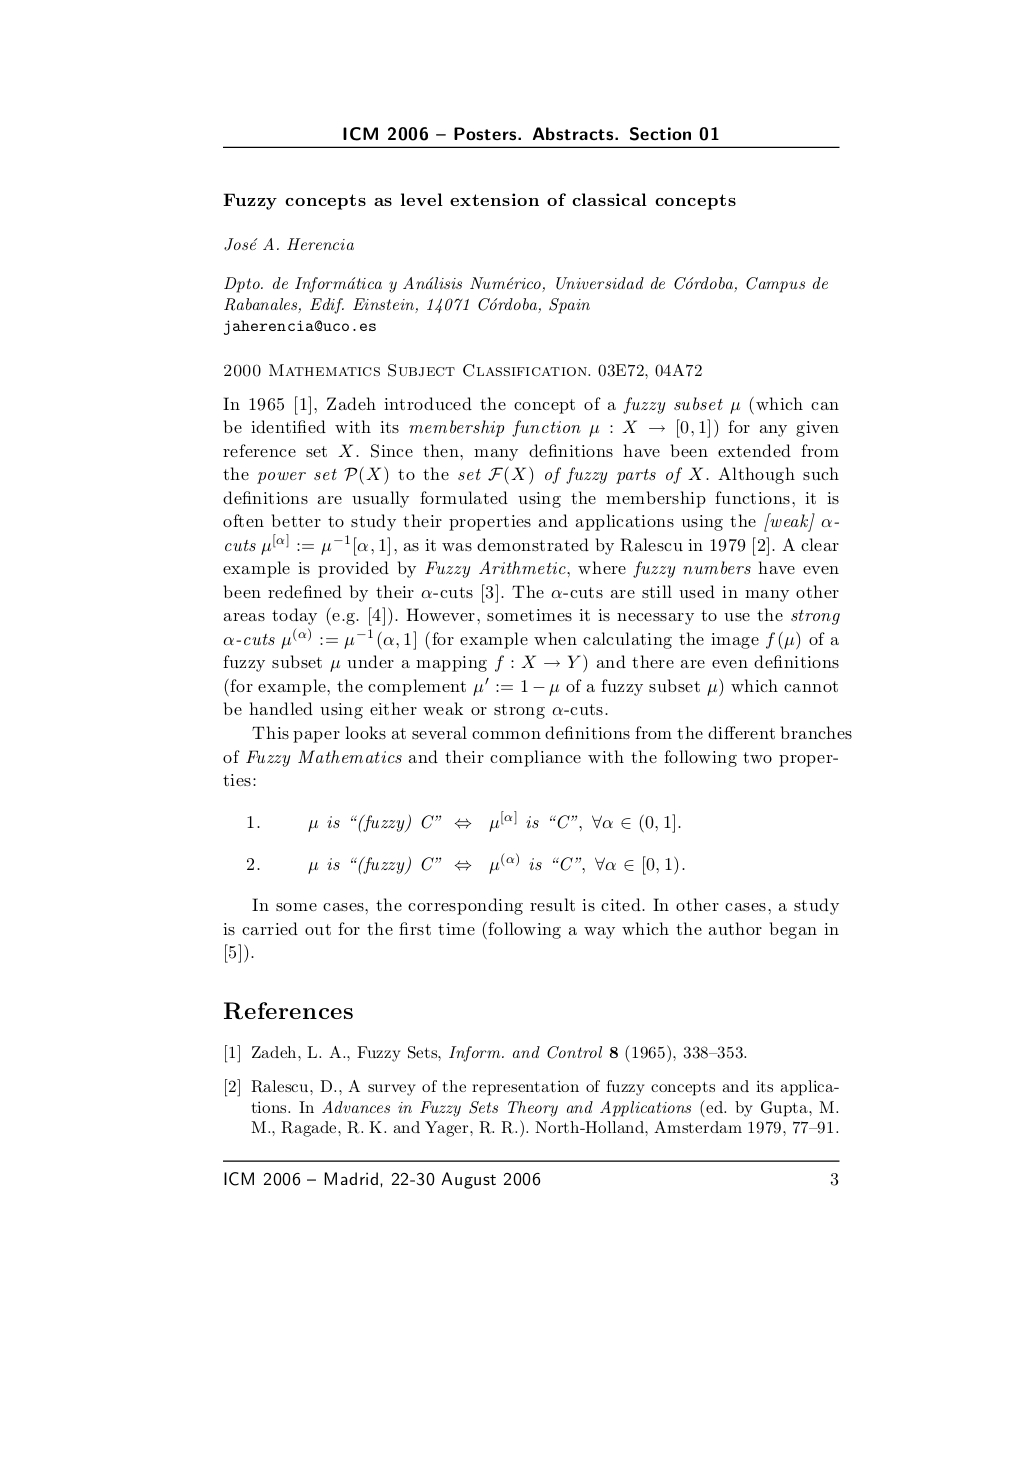formula: (247, 852, 684, 875), (247, 810, 680, 833)
